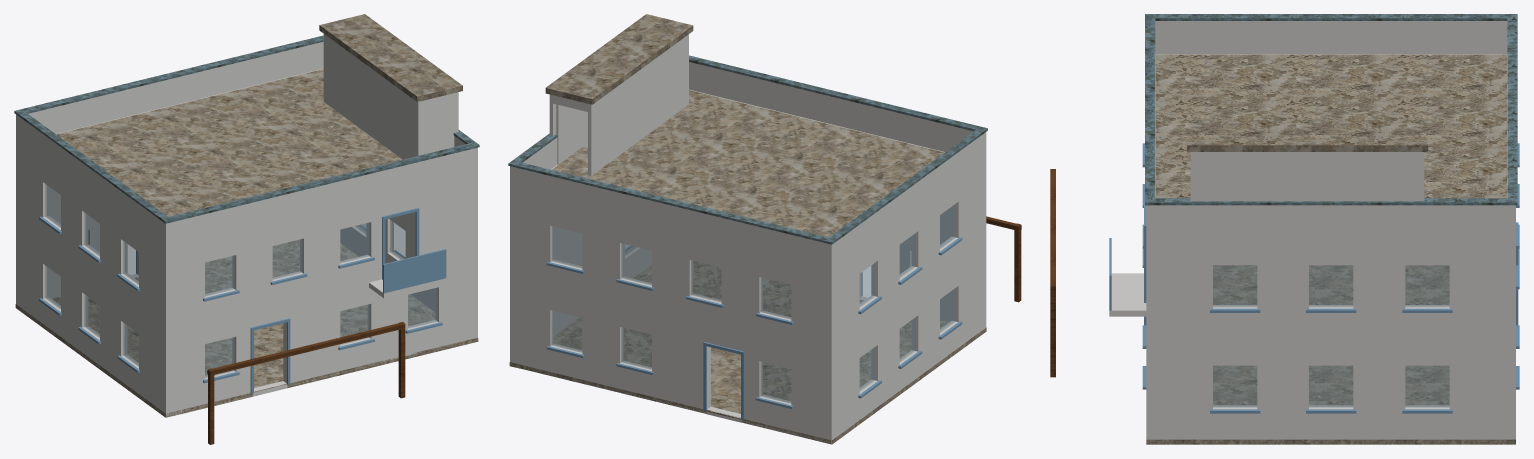
The model's file is bay-villa-white.zfix-v7.lod1.glb.
3 renders of one model, left to right at view 1: azimuth 30°, elevation 25°; view 2: azimuth 150°, elevation 25°; view 3: azimuth 270°, elevation 25°, orthographic. The views are drawn at different scales.
Parts seen in each view (by area): view 1: bay-villa-white; view 2: bay-villa-white; view 3: bay-villa-white.
Part boxes in pixels (box(x1,y1,x2,y2)): bay-villa-white: box(14, 14, 479, 444); bay-villa-white: box(508, 14, 1021, 444); bay-villa-white: box(1050, 14, 1519, 444).
Bounding box in the file's own units: 12.2 × 8.96 × 12.7.
4 materials, 2 textured.
